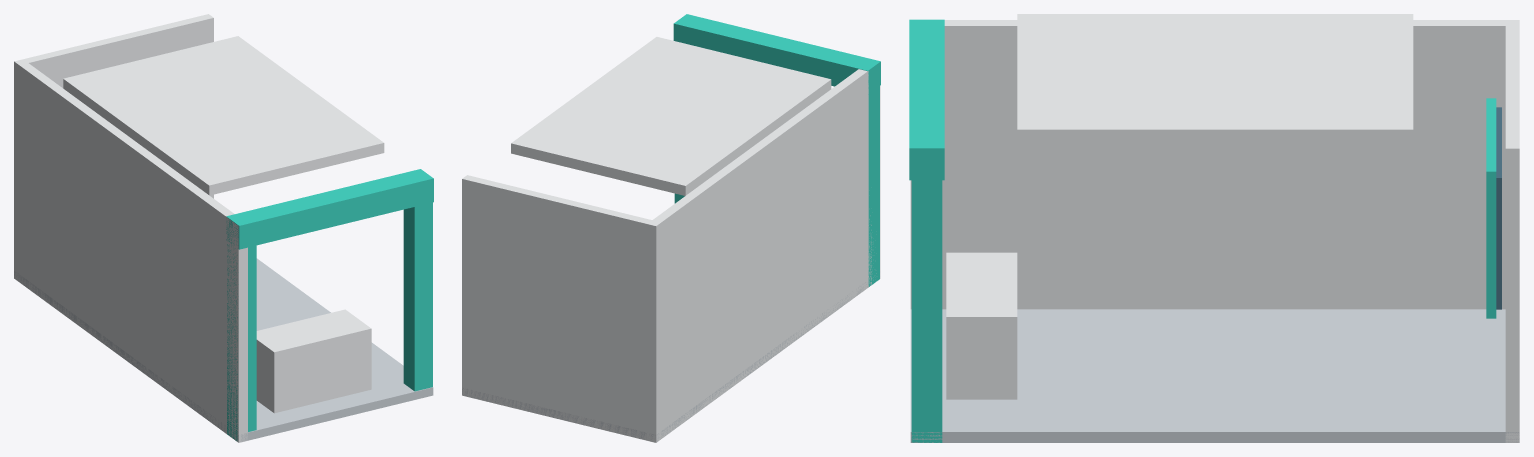
The picture shows the model from 3 angles, left to right: view 1: azimuth 30°, elevation 25°; view 2: azimuth 150°, elevation 25°; view 3: azimuth 270°, elevation 25°; orthographic projection. The views are drawn at different scales.
Visible parts, largest first — view 1: Exhibition Booth Concept; view 2: Exhibition Booth Concept; view 3: Exhibition Booth Concept.
Boxes of the visible parts, x1,y1,x2,y2 form: Exhibition Booth Concept: (14, 14, 433, 442); Exhibition Booth Concept: (462, 14, 880, 442); Exhibition Booth Concept: (909, 14, 1519, 442).
Bounding box in the file's own units: 3 × 3.34 × 6.02.
